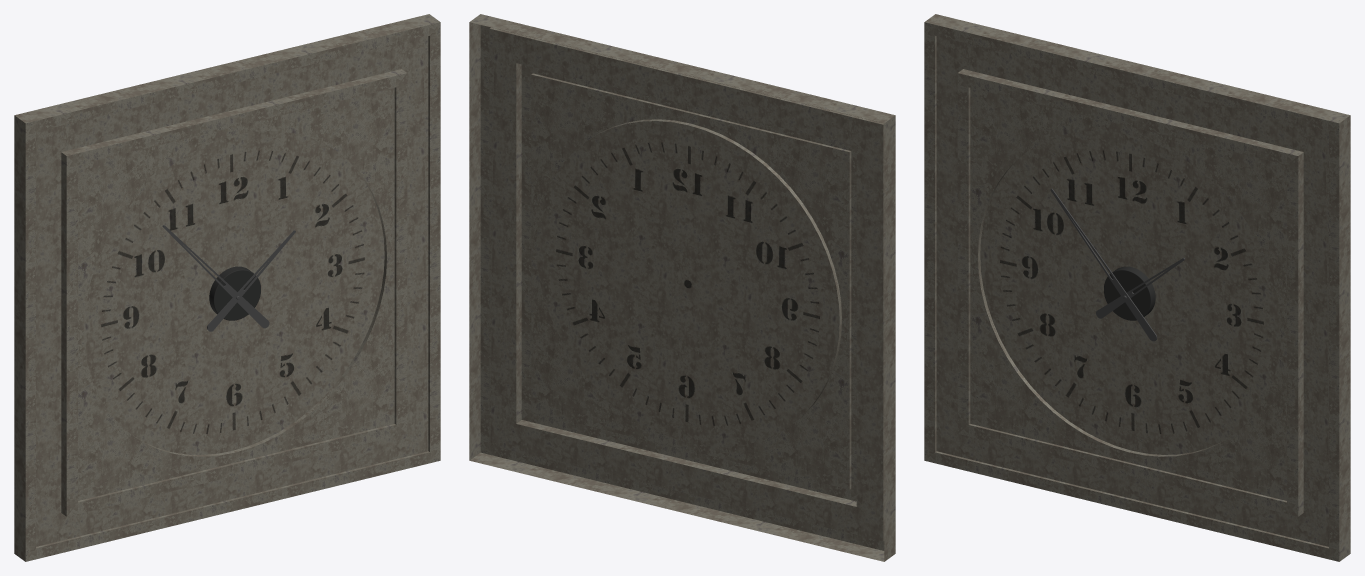
File: wall_clock.glb
3 views of the same model, side by side, from view 1: azimuth 30°, elevation 25°; view 2: azimuth 150°, elevation 25°; view 3: azimuth 330°, elevation 25° (orthographic).
Parts seen in each view (by area): view 1: Material2 (×4), Material3; view 2: Material2 (×2); view 3: Material2 (×4), Material3.
Part boxes in pixels (x1,y1,x2,y2): Material2 (×4): (14,14,440,561); Material3: (209,266,260,320); Material2 (×2): (469,14,895,561); Material2 (×4): (924,14,1350,561); Material3: (1104,266,1155,320).
Size of the model in its own units: 18.81 by 19 by 1.38.
4 materials, 2 textured.
